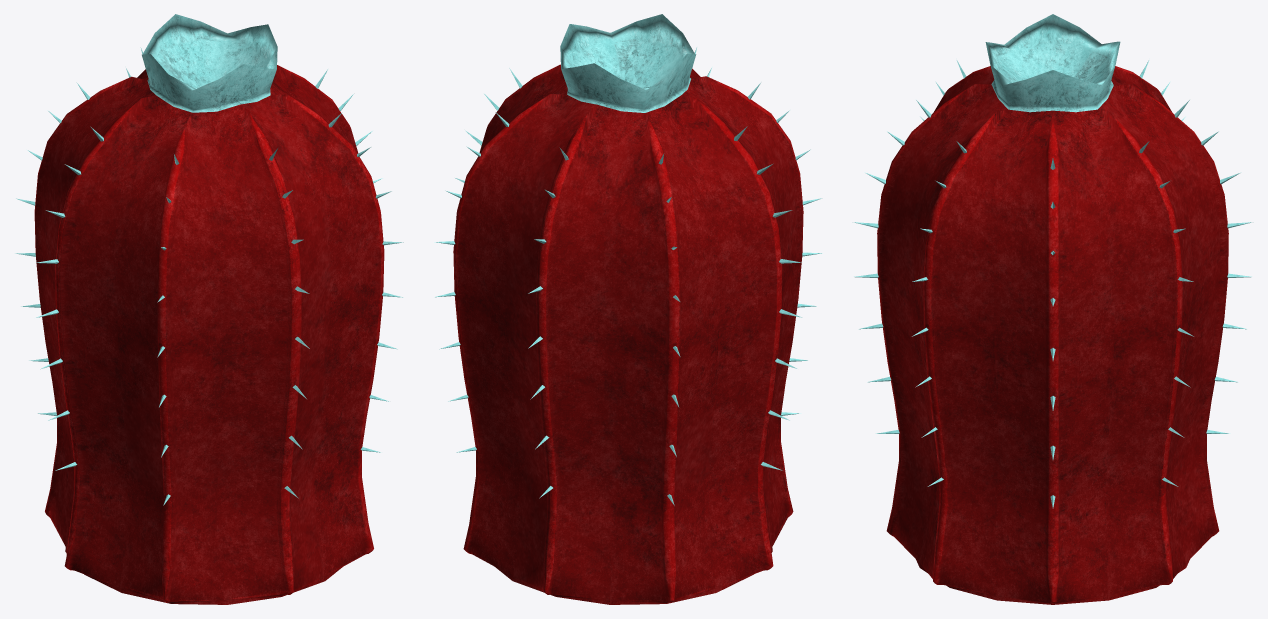
File: Cactus_Blue 1.fbx
3 renders of one model, left to right at view 1: azimuth 30°, elevation 25°; view 2: azimuth 150°, elevation 25°; view 3: azimuth 270°, elevation 25°, orthographic.
Visible parts, largest first — view 1: Cactus_Main; view 2: Cactus_Main; view 3: Cactus_Main.
Boxes of the visible parts, box(x1,y1,x2,y2) form: Cactus_Main: box(34, 14, 384, 604); Cactus_Main: box(453, 14, 803, 604); Cactus_Main: box(877, 14, 1228, 604).
Bounding box in the file's own units: 1.46 × 2.02 × 1.46.
